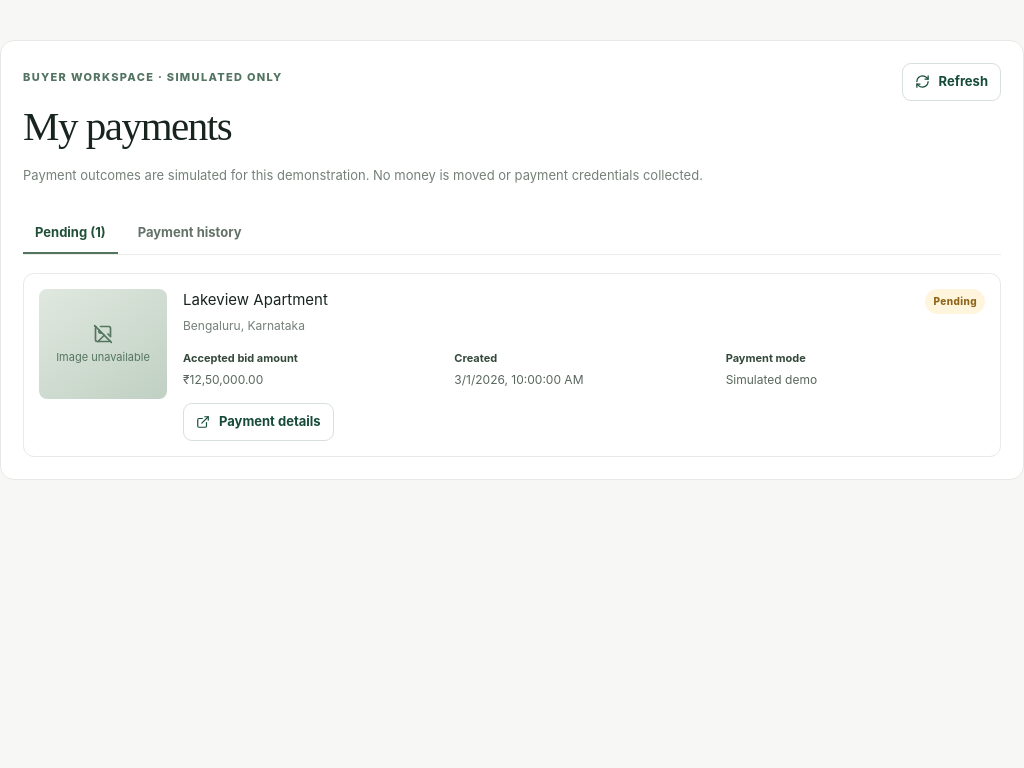
Test: BuyerPaymentsPanel › displays the real server receipt only after a successful simulated outcome
Expected: the heading "Lakeview Apartment" is shown, left=183, top=289, right=328, bottom=312
Expected: the text "Simulated demo" is shown, left=726, top=372, right=817, bottom=387
What coordinates should you click on to do the following:
click the button "Payment details"
I would click on:
 (258, 422)
Its box is left=183, top=403, right=334, bottom=441.
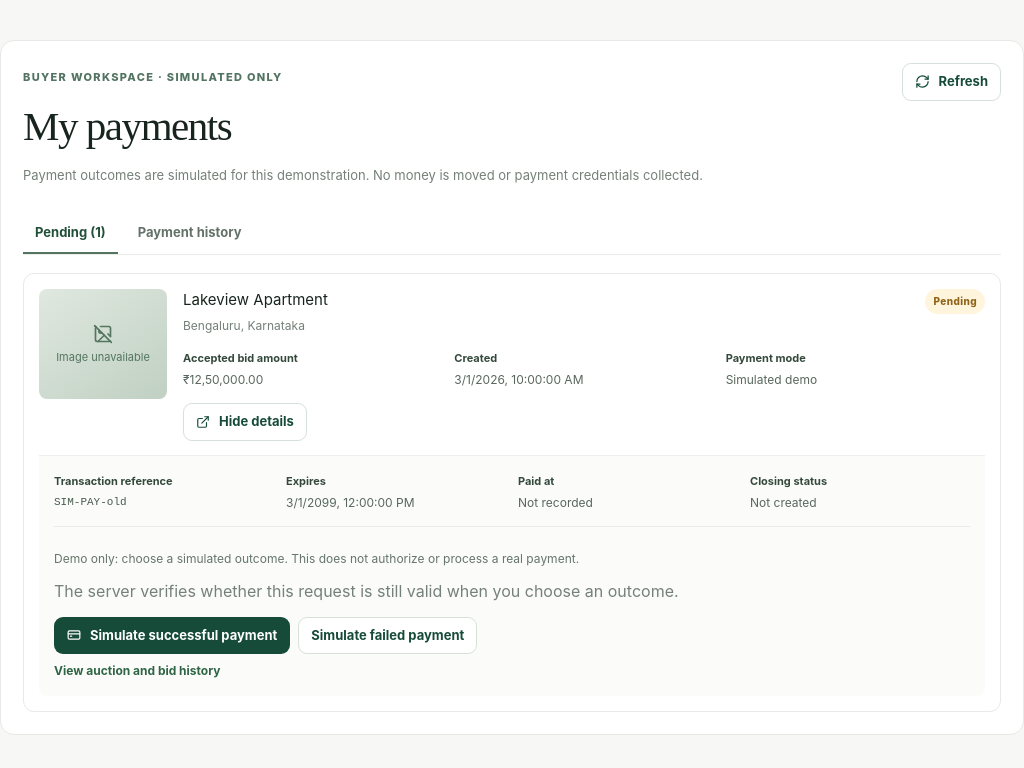
What coordinates should you click on to do the following:
click the button "Simulate successful payment"
I would click on:
 (172, 635)
Its box is left=54, top=617, right=290, bottom=654.
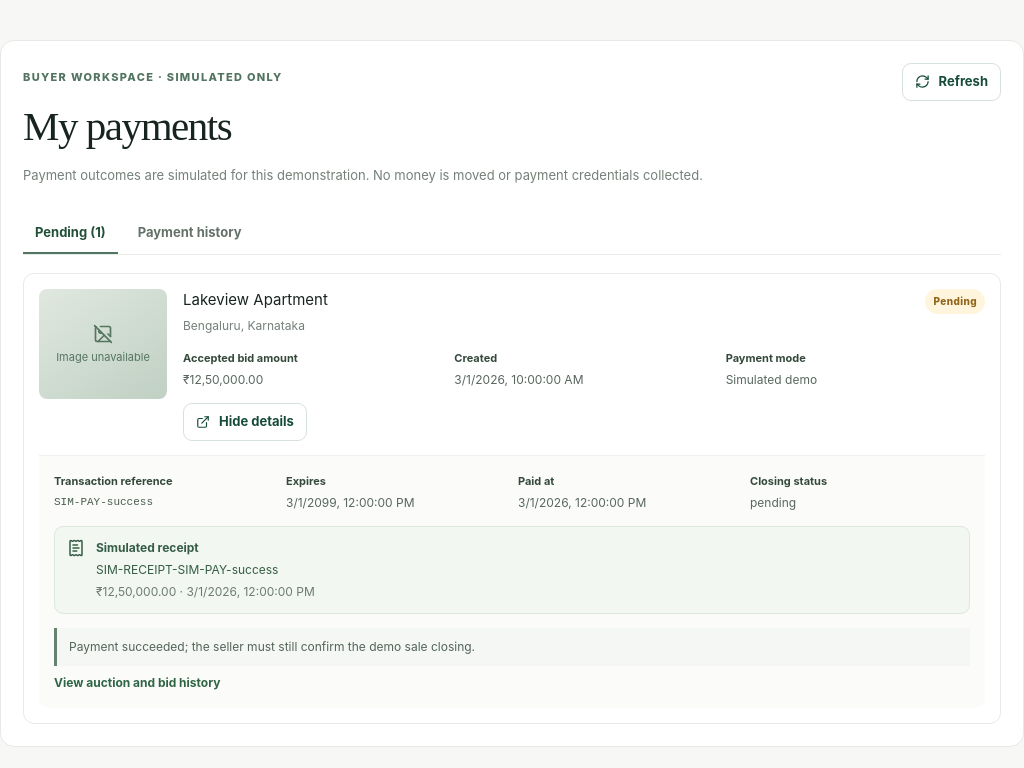
Expected: the text "Simulated receipt" is shown, left=96, top=540, right=199, bottom=555
Expected: the text "Payment succeeded; the seller must still confirm the demo sale closing." is shown, left=54, top=628, right=970, bottom=666
